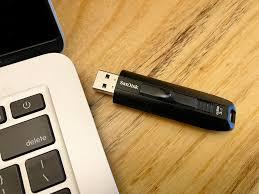USB Flash Drive: (92, 70, 237, 133)
